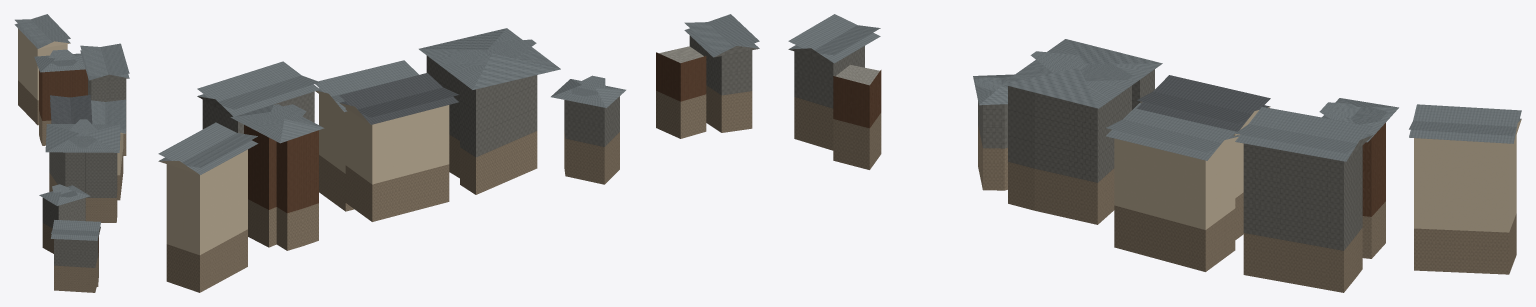
Rendered from bld_c-13_27_478.gltf.
The picture shows the model from 3 angles, left to right: view 1: azimuth 30°, elevation 25°; view 2: azimuth 150°, elevation 25°; view 3: azimuth 270°, elevation 25°; orthographic projection. The views are drawn at different scales.
Visible parts, largest first — view 1: bld_c-13_27_478; view 2: bld_c-13_27_478; view 3: bld_c-13_27_478.
Boxes of the visible parts, left/top/right/bottom form: bld_c-13_27_478: left=14, top=14, right=129, bottom=292; bld_c-13_27_478: left=158, top=14, right=759, bottom=292; bld_c-13_27_478: left=788, top=14, right=1521, bottom=292.
Size of the model in its own units: 47.46 by 18.7 by 80.62.
10 materials, 10 textured.
